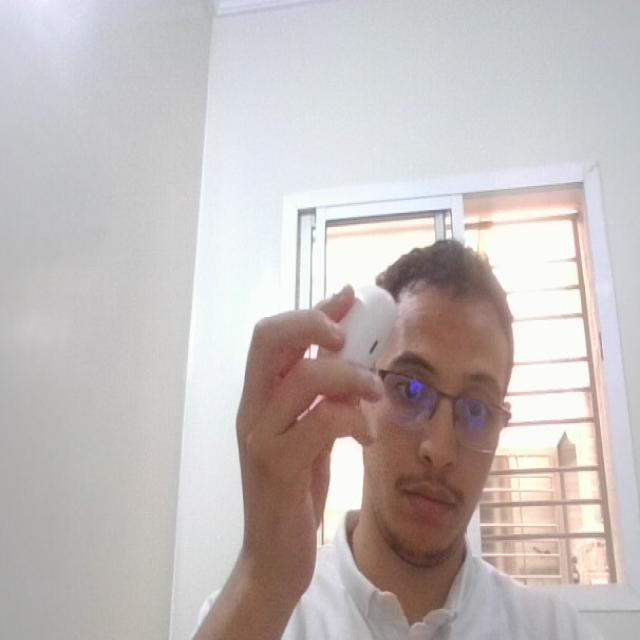airpods: (315, 278, 398, 401)
